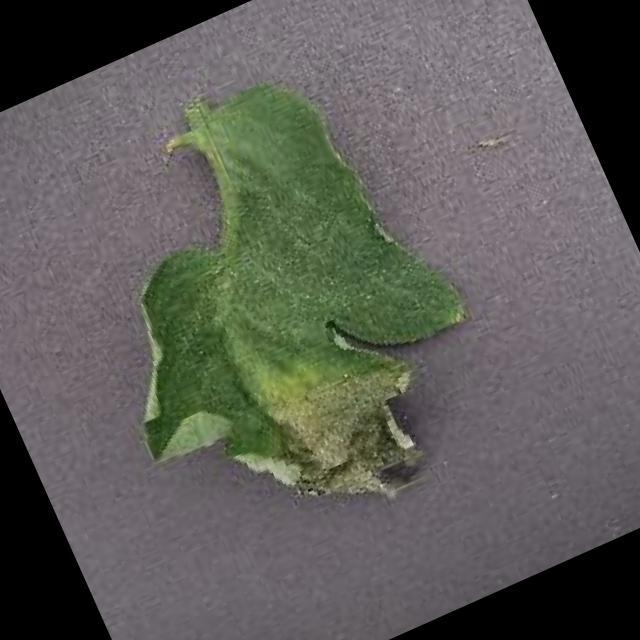Tomato late blight leaf: (30, 38, 527, 576)
